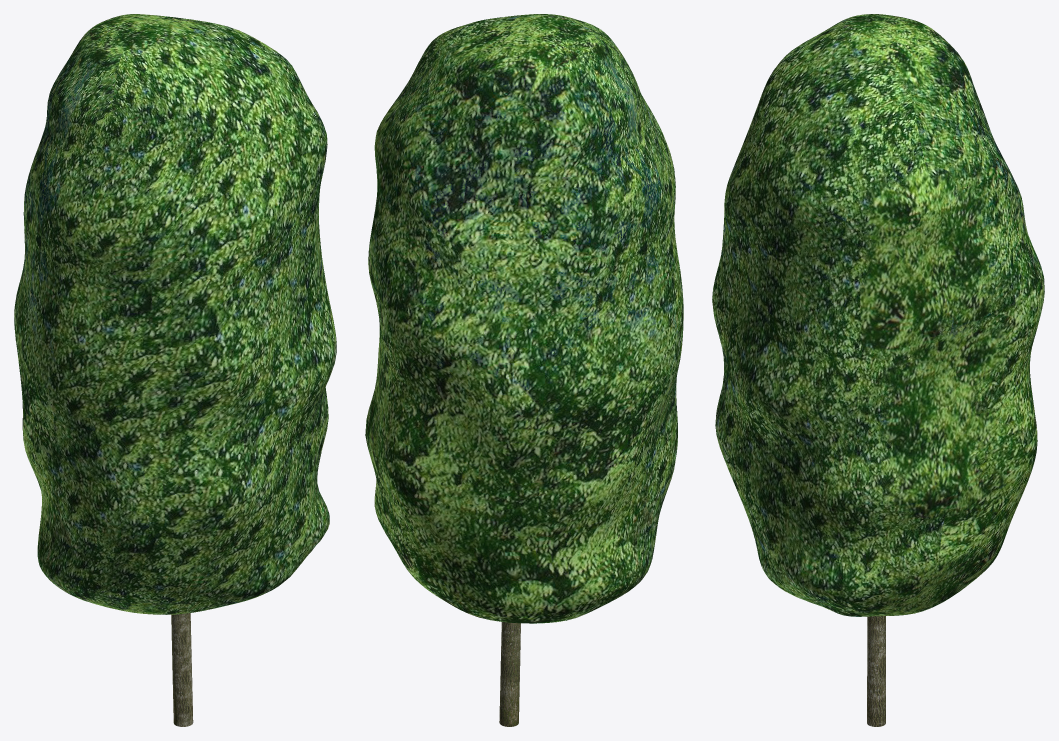
File: ash.obj
3 views of the same model, side by side, from view 1: azimuth 30°, elevation 25°; view 2: azimuth 150°, elevation 25°; view 3: azimuth 270°, elevation 25° (orthographic). The views are drawn at different scales.
Visible parts, largest first — view 1: 10459_White_Ash_Tree_v1_L3; view 2: 10459_White_Ash_Tree_v1_L3; view 3: 10459_White_Ash_Tree_v1_L3.
Boxes of the visible parts, bbox=[...] form: 10459_White_Ash_Tree_v1_L3: bbox=[14, 14, 336, 726]; 10459_White_Ash_Tree_v1_L3: bbox=[365, 14, 683, 726]; 10459_White_Ash_Tree_v1_L3: bbox=[712, 14, 1044, 726].
Size of the model in its own units: 4.9 by 11.84 by 5.24.
Materials: 1 (1 with a texture image).
